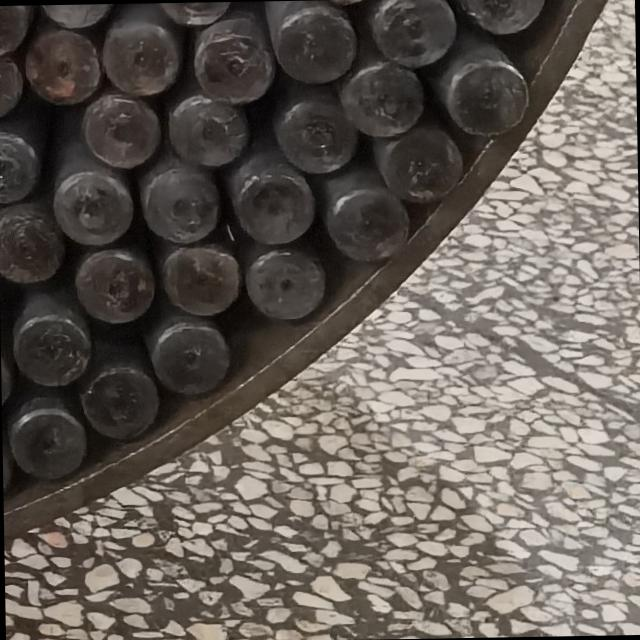tool: (425, 42, 531, 136), (222, 150, 316, 248), (318, 166, 407, 261), (194, 3, 277, 102), (9, 288, 92, 386), (99, 5, 182, 97), (132, 155, 217, 244), (271, 82, 356, 169), (162, 84, 248, 164), (376, 127, 462, 206), (76, 245, 158, 325), (80, 90, 164, 168), (338, 62, 424, 136), (52, 167, 133, 243), (364, 0, 456, 65), (162, 242, 242, 316), (274, 7, 354, 80), (150, 326, 232, 396), (81, 369, 159, 439), (0, 199, 62, 286), (250, 248, 328, 317), (8, 414, 86, 480), (30, 36, 104, 100), (0, 110, 37, 202), (454, 0, 546, 35), (30, 4, 152, 26), (149, 2, 243, 24), (0, 40, 22, 118), (0, 5, 34, 52)
